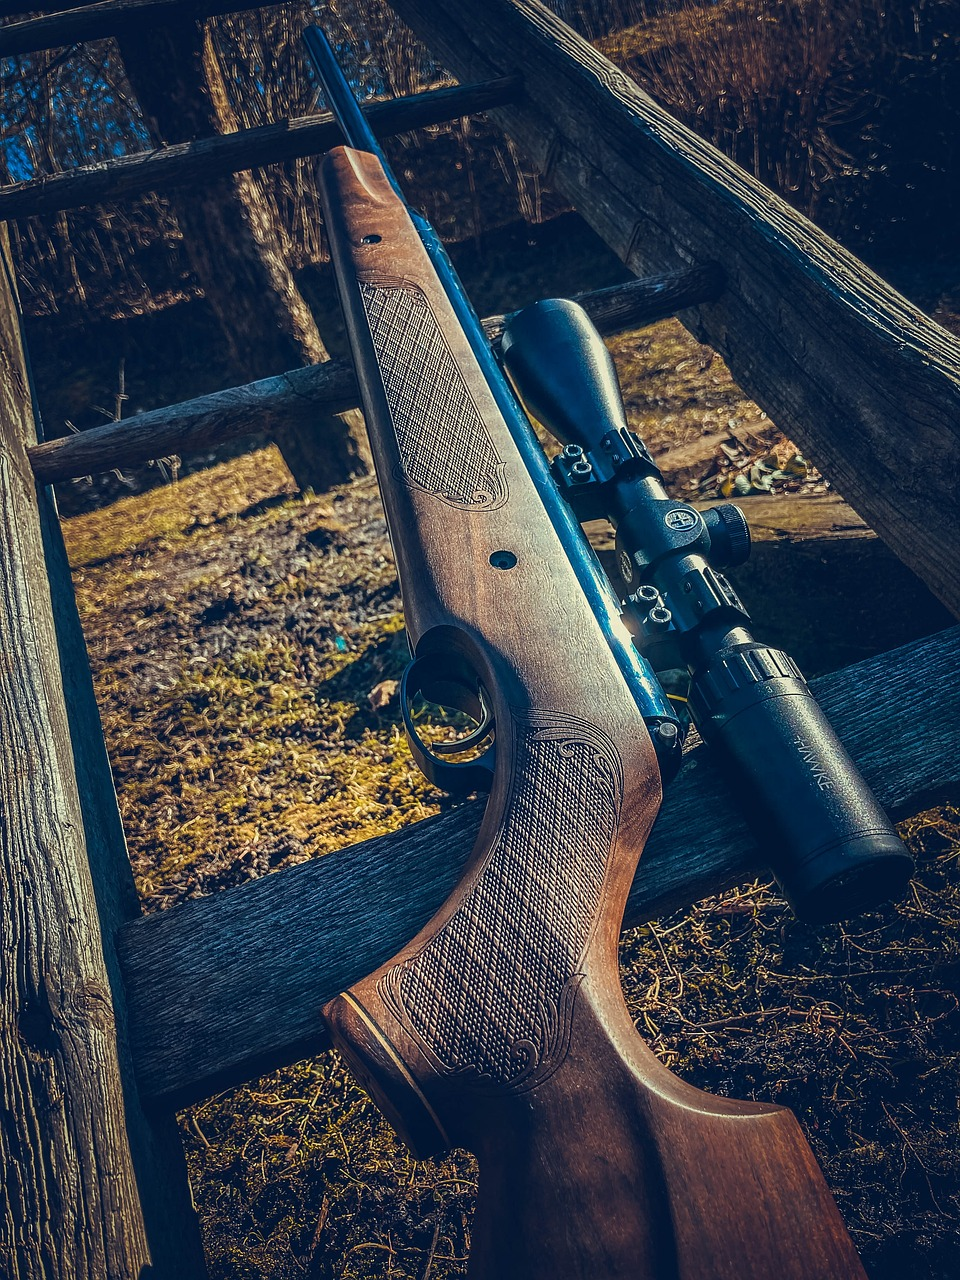gun: (290, 17, 922, 1280)
